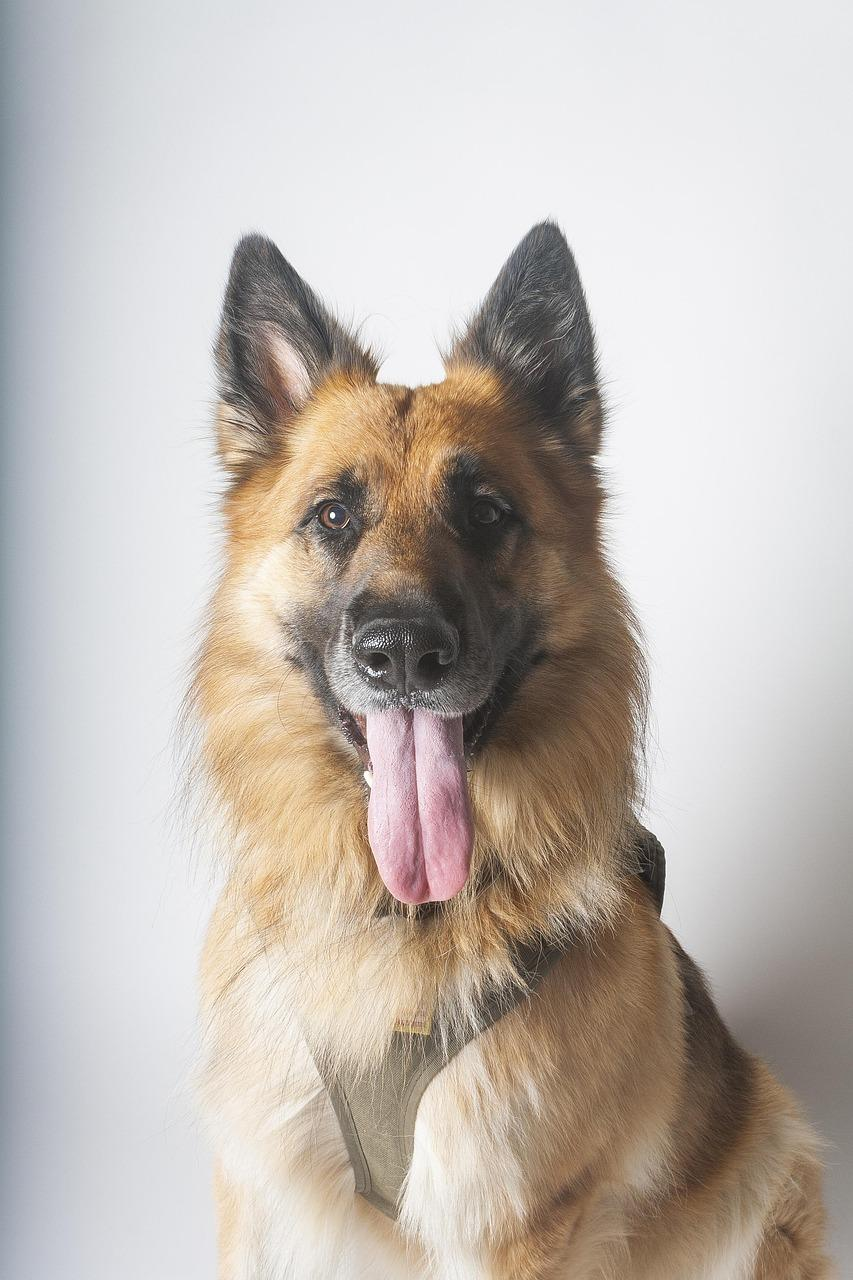german_shepherd: (178, 238, 637, 908)
